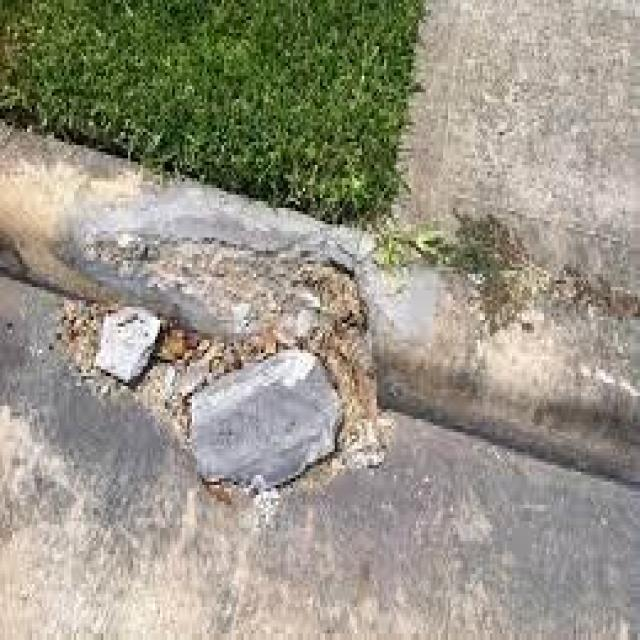curb: (0, 130, 389, 388), (333, 236, 640, 490)
